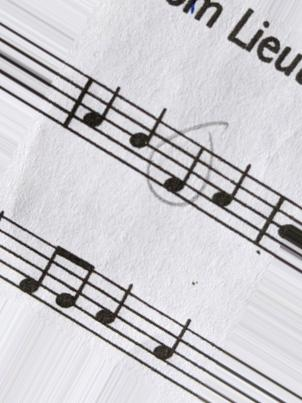note: (93, 267, 135, 362), (209, 154, 253, 242), (163, 124, 205, 215), (81, 70, 121, 163), (151, 308, 193, 393), (127, 102, 166, 186)
